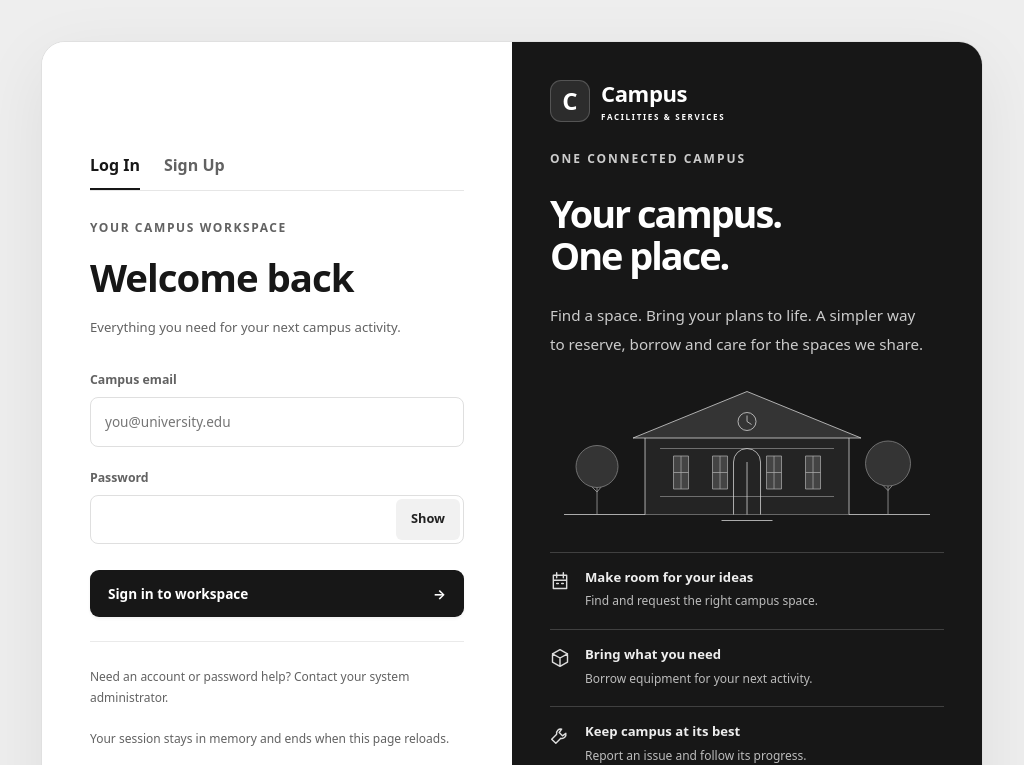
Test: administrator has management controls and empty states contain no demo records
Type "fixture@example.test" into the field labelled "Campus email".
click(277, 422); type("fixture@example.test")  # box [90,397,464,446]
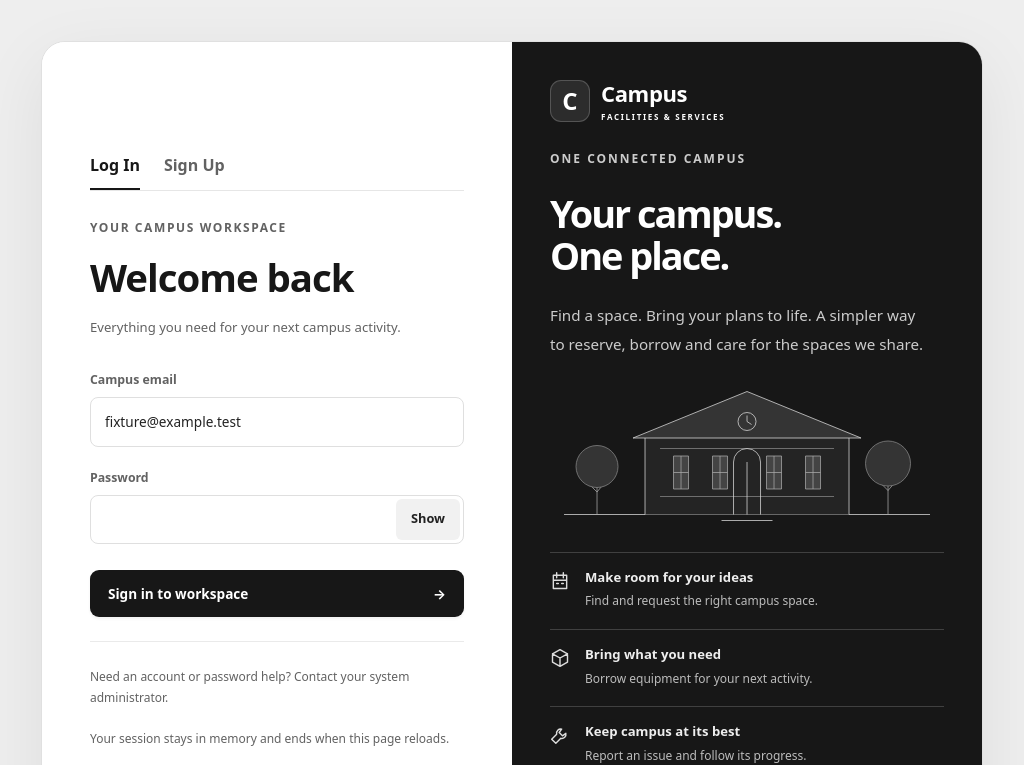
Type "synthetic-password" into the password field labelled "Password".
click(277, 519); type("synthetic-password")  # box [90,495,464,544]
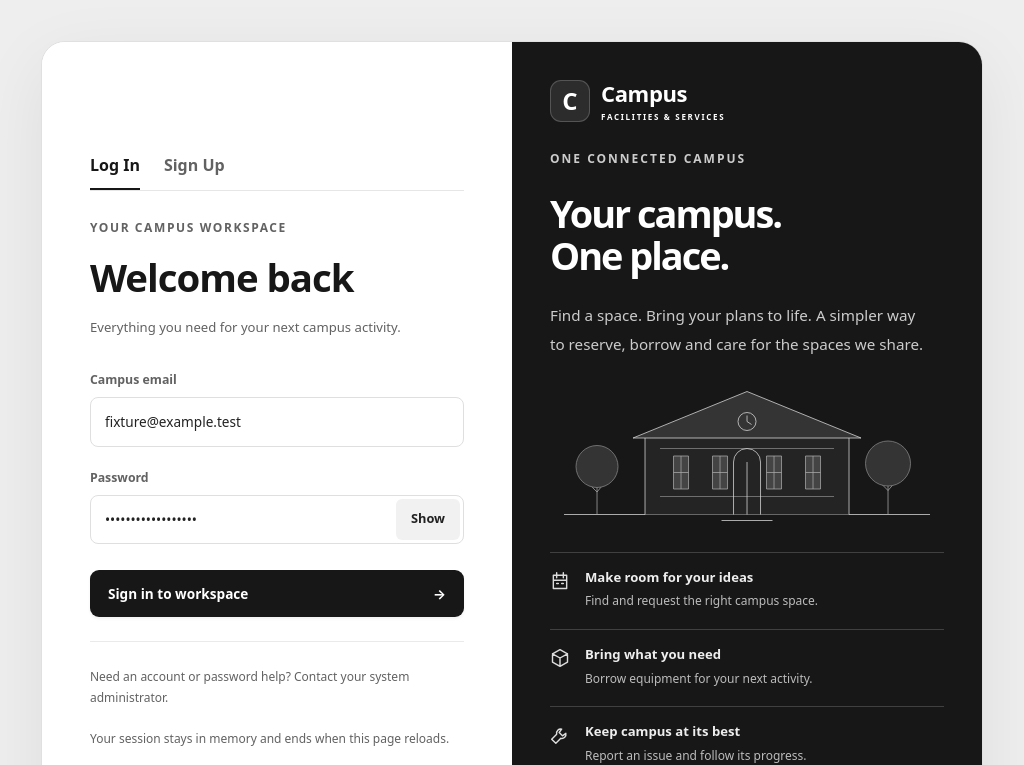
Click the button "Sign in to workspace →".
click(178, 593)  # box [90,570,464,617]
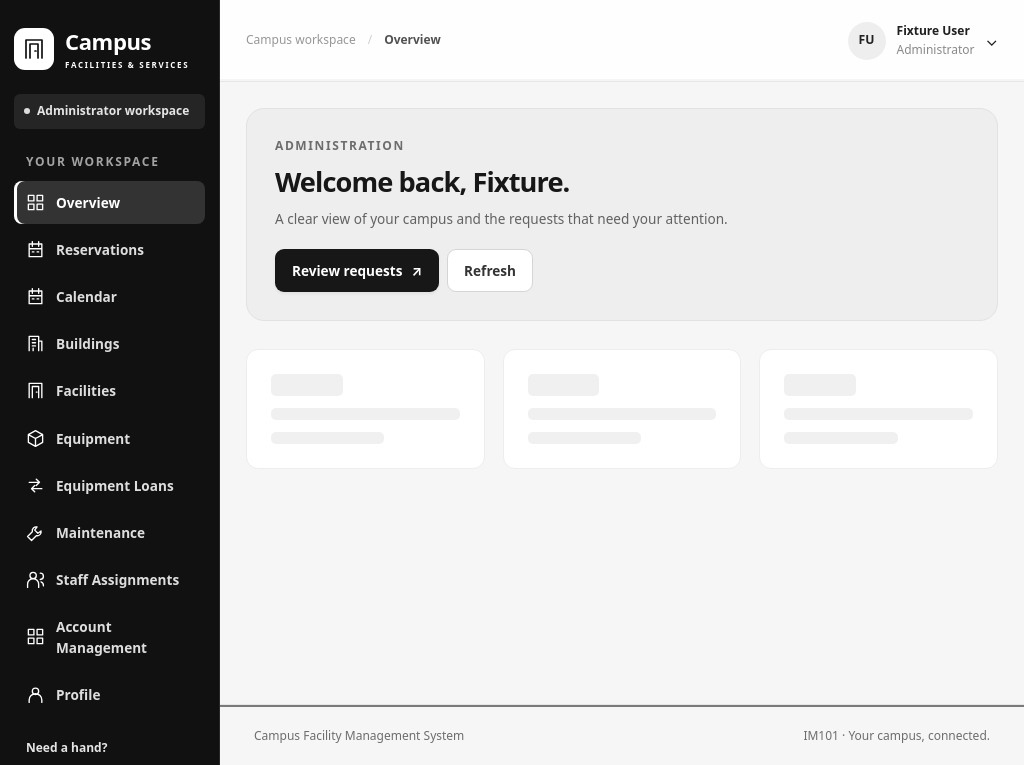
Now the heading "Welcome back, Fixture." is shown, box [275,163,569,200]
Now the link "Staff Assignments" is shown, box [26,570,179,589]
Now the link "Buildings" is shown
Click the link "Buildings".
click(73, 344)  # box [26,334,119,353]
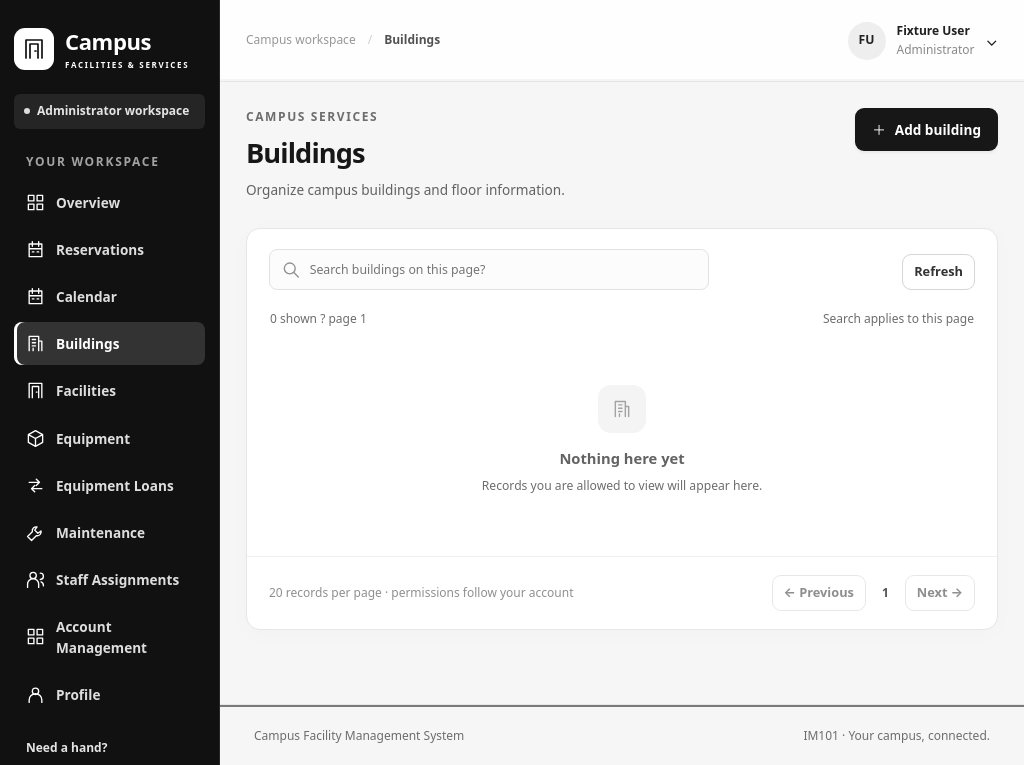
Now the heading "Buildings" is shown, box [246,134,365,171]
Now the heading "Nothing here yet" is shown, box [559,448,685,468]
Now the button "＋ Add building" is shown, box [855,108,998,151]
